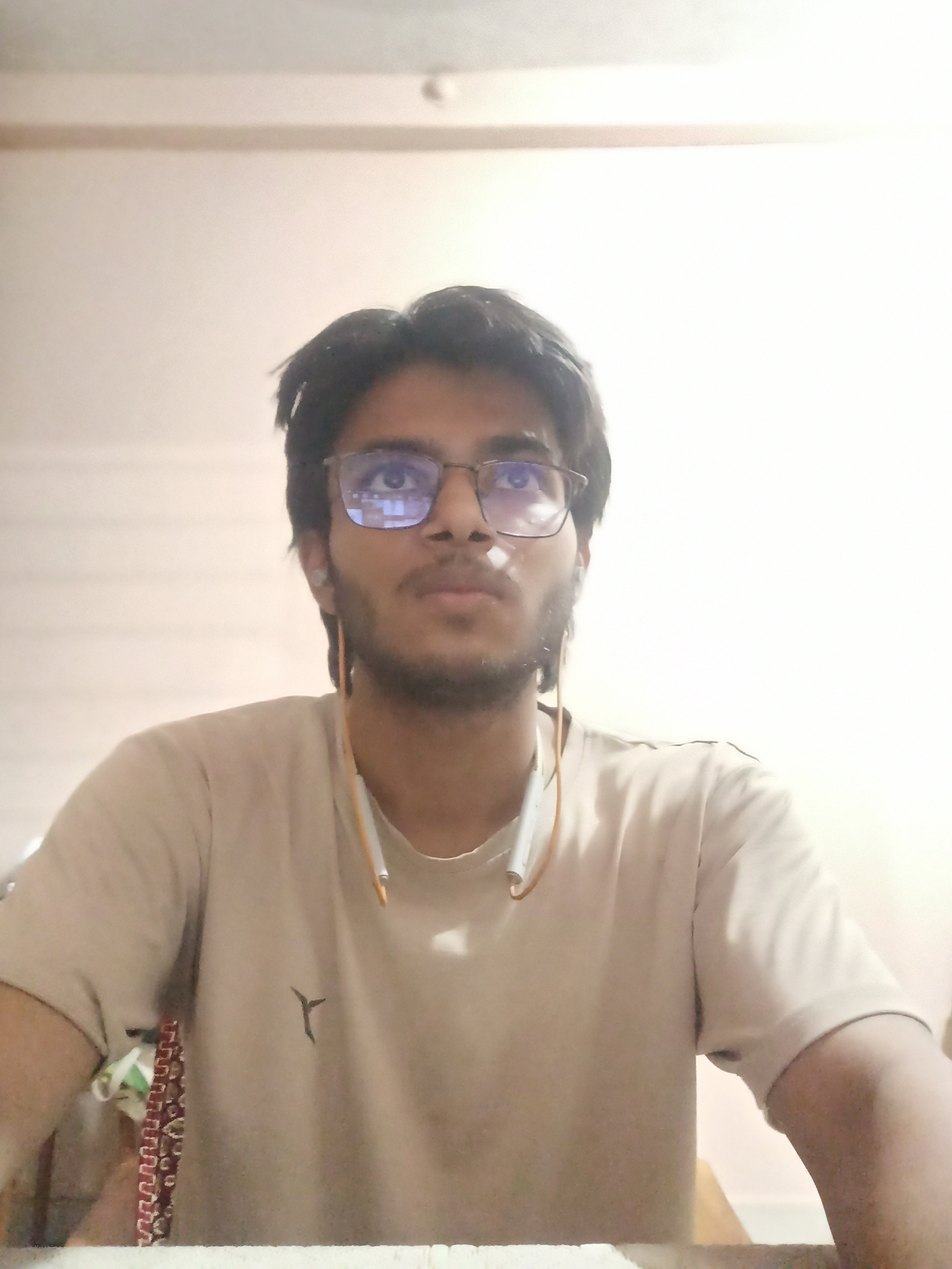Focused: (219, 277, 672, 725)
